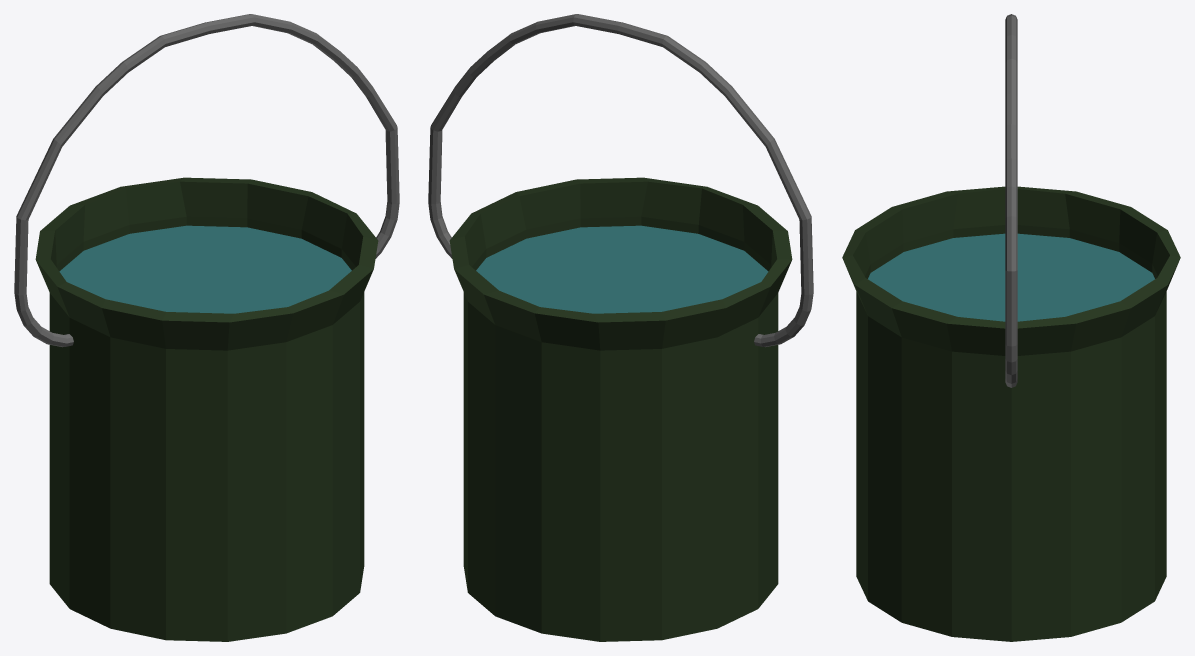
File: Bucket.fbx
3 views of the same model, side by side, from view 1: azimuth 30°, elevation 25°; view 2: azimuth 150°, elevation 25°; view 3: azimuth 270°, elevation 25° (orthographic). The views are drawn at different scales.
Parts seen in each view (by area): view 1: Bucket, Water, Handle; view 2: Bucket, Water, Handle; view 3: Bucket, Water, Handle.
Boxes of the visible parts, x1=… form: Bucket: x1=35, y1=177, x2=378, y2=641; Water: x1=59, y1=225, x2=351, y2=313; Handle: x1=14, y1=14, x2=399, y2=347; Bucket: x1=449, y1=177, x2=792, y2=641; Water: x1=476, y1=225, x2=768, y2=313; Handle: x1=428, y1=14, x2=813, y2=347; Bucket: x1=842, y1=186, x2=1180, y2=641; Water: x1=868, y1=233, x2=1154, y2=321; Handle: x1=1005, y1=14, x2=1017, y2=387.
Size of the model in its own units: 690 by 949 by 538.
